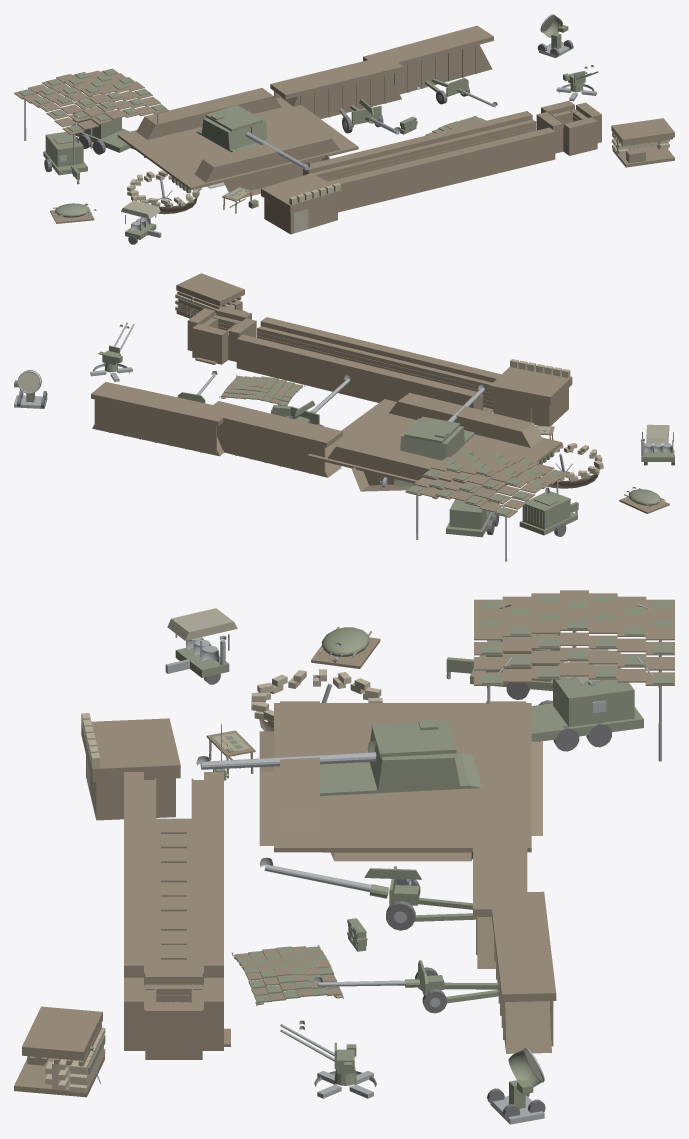
The model's file is armoured-column-and-field-camp-gun-line-and-positions-e005e9b7__23740.glb.
The picture shows the model from 3 angles, top to bottom: view 1: azimuth 30°, elevation 25°; view 2: azimuth 150°, elevation 25°; view 3: azimuth 270°, elevation 25°; orthographic projection. The views are drawn at different scales.
Parts seen in each view (by area): view 1: 001-vehicle-scrape/0, 003-revetment/0, 005-revetment/0, 015-camo-net-frame/1, 013-dugout/0, 011-trench-straight/0, 010-trench-straight/0, 009-trench-straight/0, 008-trench-straight/0, 012-trench-corner/0, 000-self-propelled-gun/turret (×2), 015-camo-net-frame/2 (+19 smaller); view 2: 001-vehicle-scrape/0, 015-camo-net-frame/1, 013-dugout/0, 005-revetment/1, 011-trench-straight/0, 005-revetment/0, 003-revetment/1, 010-trench-straight/0, 003-revetment/0, 012-trench-corner/0, 009-trench-straight/0, 000-self-propelled-gun/turret (+15 smaller); view 3: 001-vehicle-scrape/0, 015-camo-net-frame/1, 005-revetment/0, 012-trench-corner/0, 013-dugout/0, 000-self-propelled-gun/turret (×2), 003-revetment/0, 015-camo-net-frame/2, 014-observation-post/0, 010-trench-straight/0, 009-trench-straight/0, 008-trench-straight/0 (+21 smaller).
Boxes of the visible parts, bbox=[...] form: 001-vehicle-scrape/0: bbox=[117, 88, 358, 197]; 003-revetment/0: bbox=[270, 55, 403, 118]; 005-revetment/0: bbox=[363, 25, 493, 94]; 015-camo-net-frame/1: bbox=[14, 70, 169, 134]; 013-dugout/0: bbox=[261, 173, 341, 234]; 011-trench-straight/0: bbox=[471, 111, 555, 172]; 010-trench-straight/0: bbox=[415, 124, 499, 186]; 009-trench-straight/0: bbox=[359, 138, 443, 200]; 008-trench-straight/0: bbox=[303, 152, 387, 212]; 012-trench-corner/0: bbox=[536, 100, 601, 155]; 000-self-propelled-gun/turret (×2): bbox=[201, 105, 310, 170]; 015-camo-net-frame/2: bbox=[18, 68, 166, 131]; 001-vehicle-scrape/0: bbox=[307, 392, 562, 491]; 015-camo-net-frame/1: bbox=[405, 448, 569, 517]; 013-dugout/0: bbox=[489, 367, 572, 426]; 005-revetment/1: bbox=[94, 399, 216, 453]; 011-trench-straight/0: bbox=[236, 317, 325, 382]; 005-revetment/0: bbox=[91, 382, 233, 456]; 003-revetment/1: bbox=[217, 422, 325, 474]; 010-trench-straight/0: bbox=[296, 331, 384, 396]; 003-revetment/0: bbox=[213, 401, 342, 477]; 012-trench-corner/0: bbox=[187, 306, 256, 364]; 009-trench-straight/0: bbox=[355, 346, 443, 402]; 000-self-propelled-gun/turret: bbox=[400, 416, 464, 460]; 001-vehicle-scrape/0: bbox=[259, 701, 542, 861]; 015-camo-net-frame/1: bbox=[474, 590, 674, 685]; 005-revetment/0: bbox=[490, 891, 556, 1053]; 012-trench-corner/0: bbox=[124, 968, 230, 1059]; 013-dugout/0: bbox=[81, 718, 180, 820]; 000-self-propelled-gun/turret (×2): bbox=[196, 721, 460, 791]; 003-revetment/0: bbox=[473, 807, 527, 968]; 015-camo-net-frame/2: bbox=[481, 595, 673, 684]; 014-observation-post/0: bbox=[14, 1006, 104, 1097]; 010-trench-straight/0: bbox=[124, 868, 223, 963]; 009-trench-straight/0: bbox=[124, 820, 223, 915]; 008-trench-straight/0: bbox=[124, 772, 223, 866].
Size of the model in its own units: 40.49 by 3.95 by 23.1.
